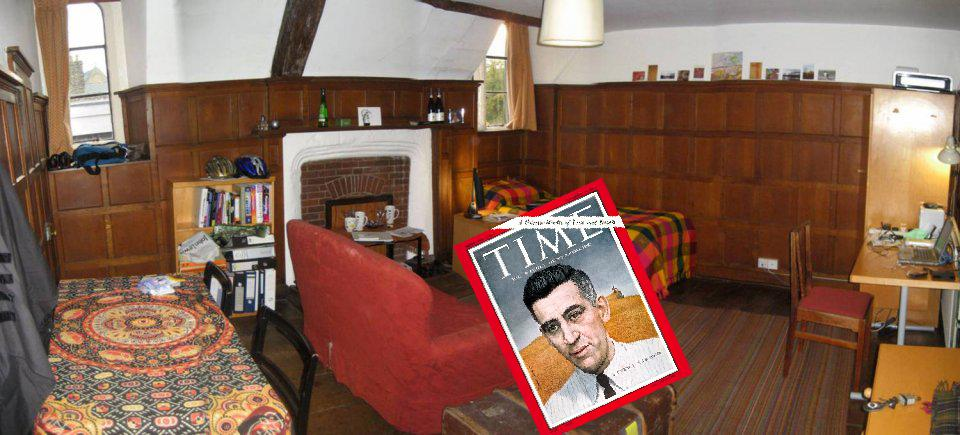times: (448, 176, 693, 435)
